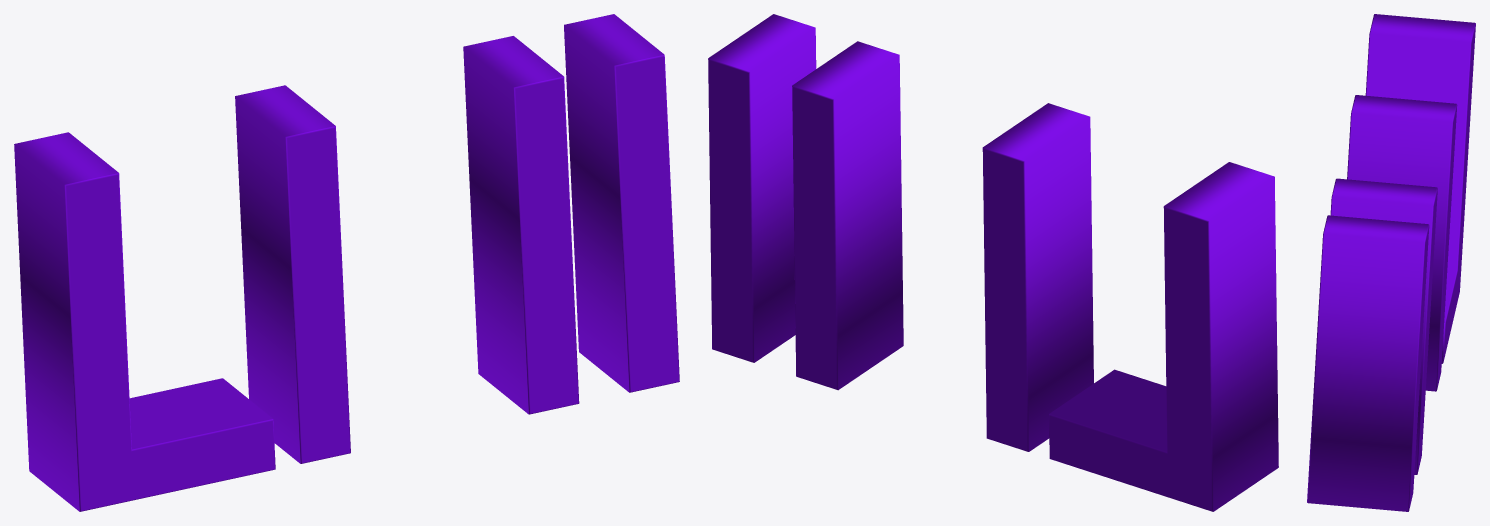
Rendered from ObjectLl.fbx.
3 renders of one model, left to right at view 1: azimuth 30°, elevation 25°; view 2: azimuth 150°, elevation 25°; view 3: azimuth 270°, elevation 25°, orthographic. The views are drawn at different scales.
Visible parts, largest first — view 1: Text; view 2: Text; view 3: Text.
Part boxes in pixels (x1,y1,x2,y2): Text: (14,14,679,511); Text: (708,14,1278,511); Text: (1307,14,1475,511).
Bounding box in the file's own units: 335 × 187 × 101.
